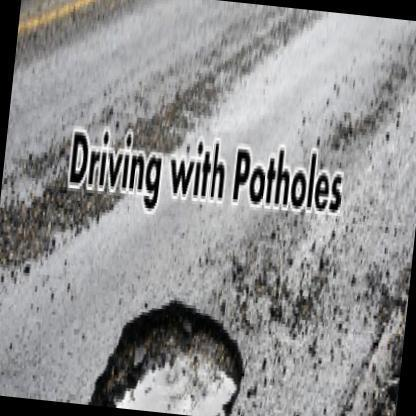pothole: (89, 294, 251, 416)
